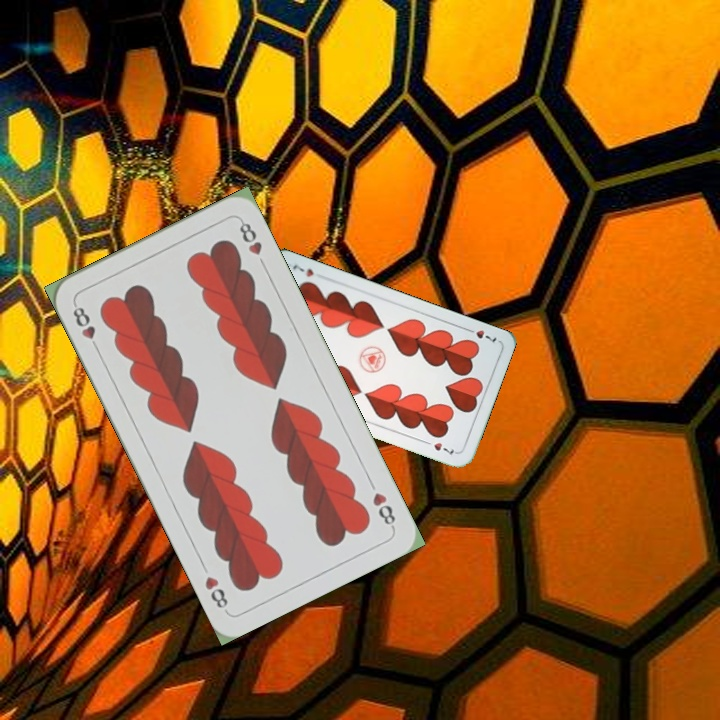H7: (461, 324, 499, 345)
H8: (68, 299, 102, 354), (368, 488, 398, 531)
